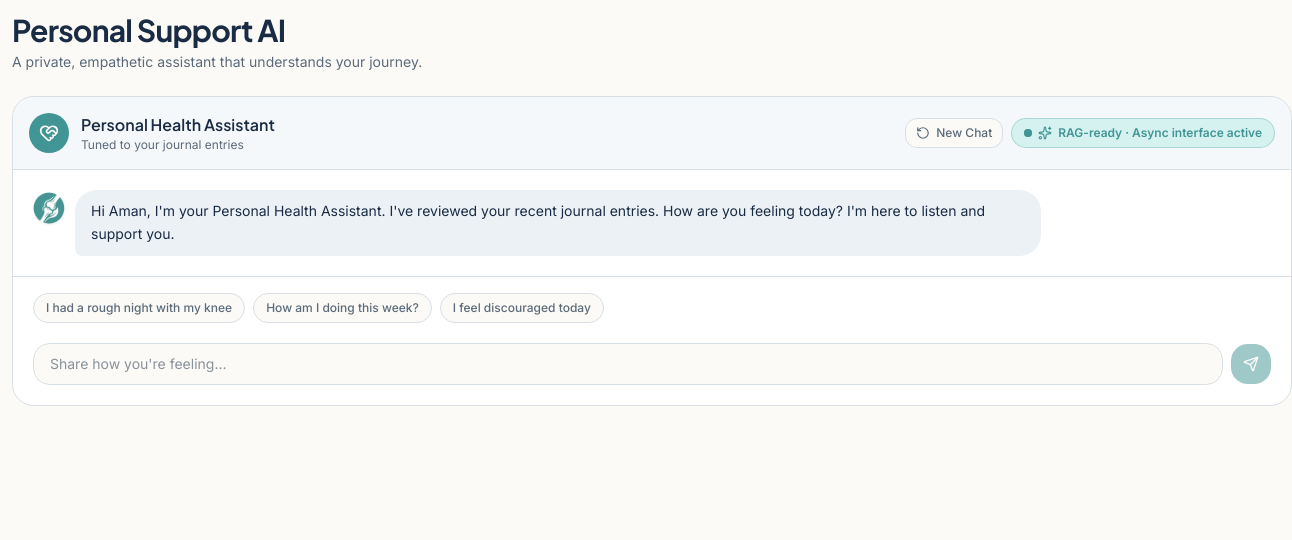
Test case: PersonalAI › replaces loading bubble with reply text on success
Type "How am I doing?" into the field at {"x": 628, "y": 364}, box 33,342 -> 1223,384
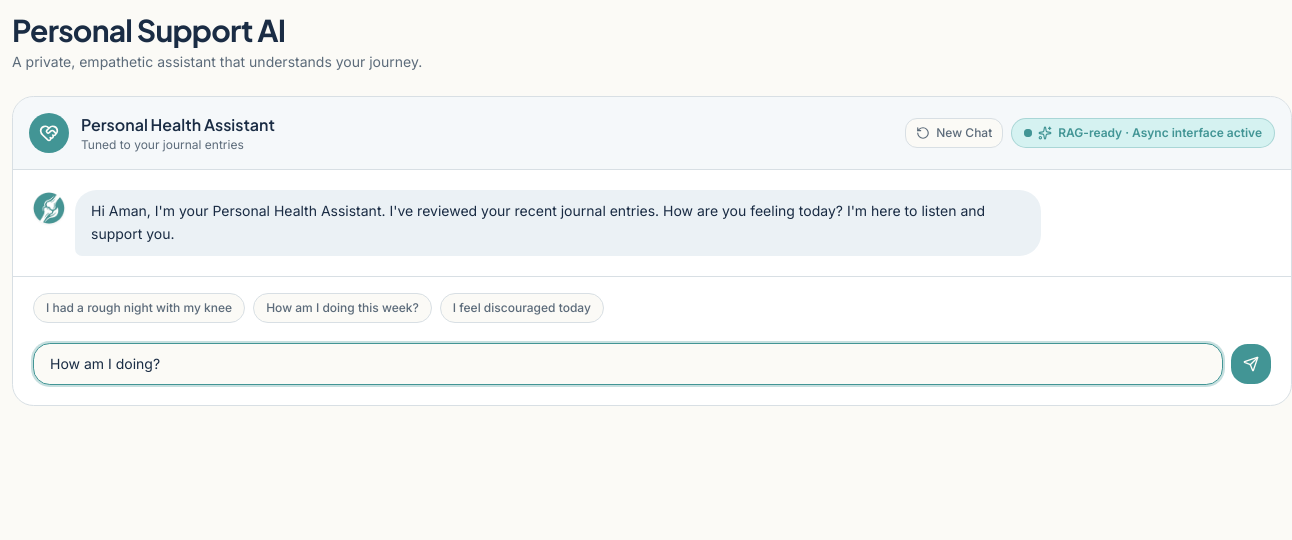
Press Enter
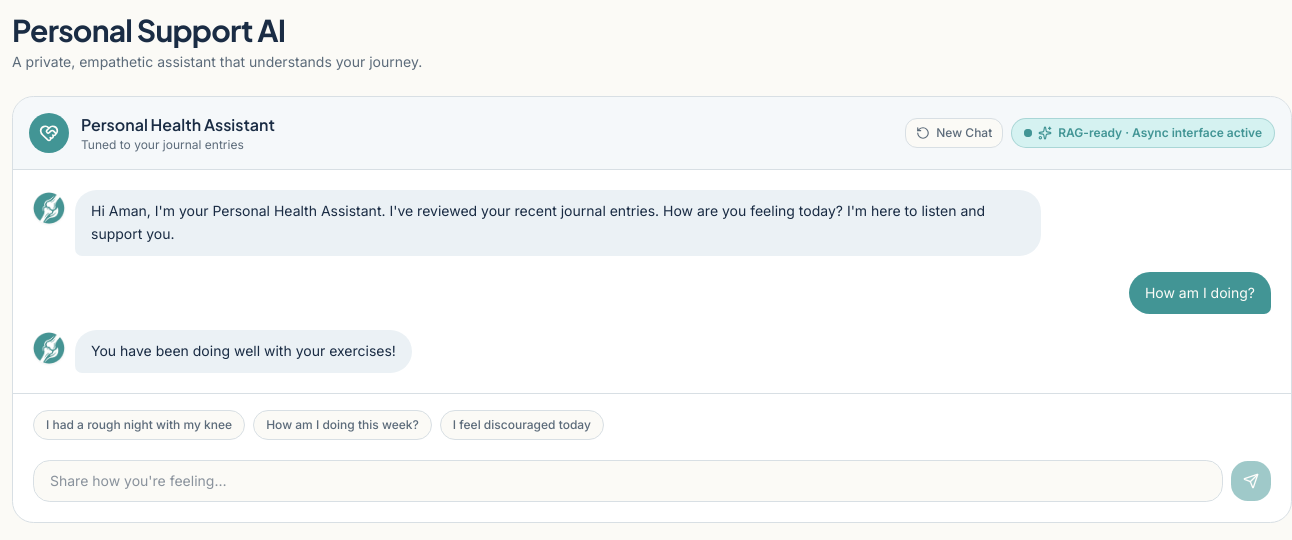
Expected: the field is enabled, 33,460 -> 1223,502
Now the text "You have been doing well with your exercises!" is shown, box 91,340 -> 396,363
